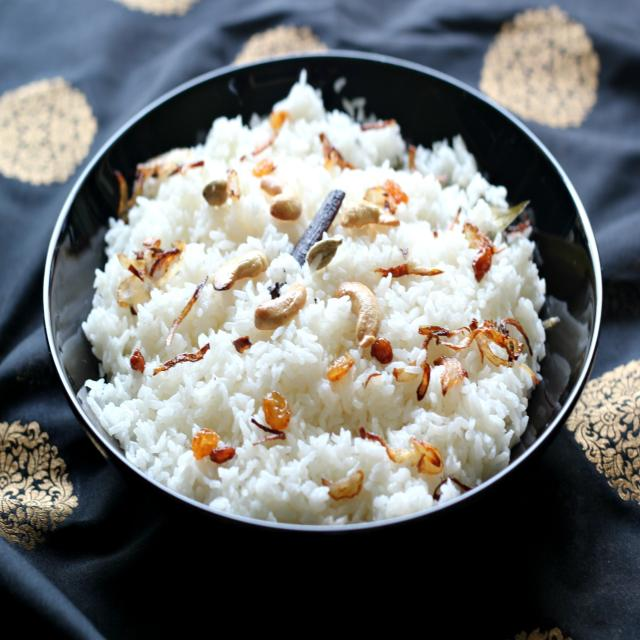nei satham: (87, 38, 550, 537)
